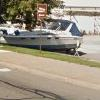Boat: (1, 17, 85, 52)
